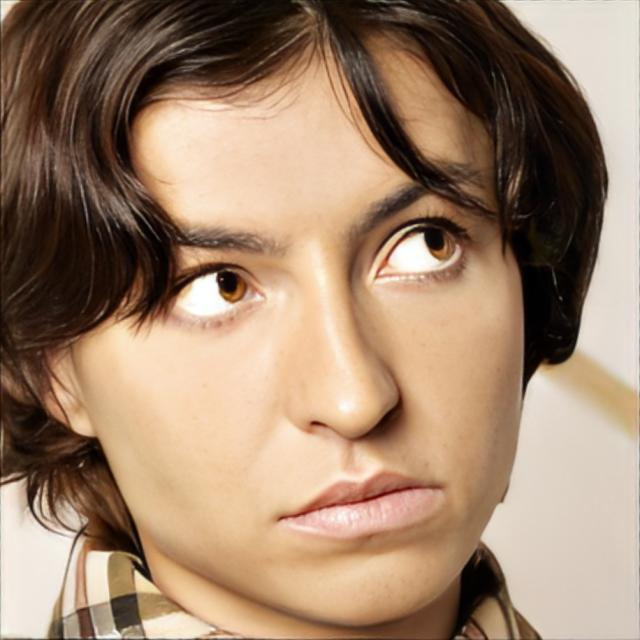fear: (69, 13, 528, 629)
